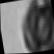correct: (15, 0, 54, 54)
